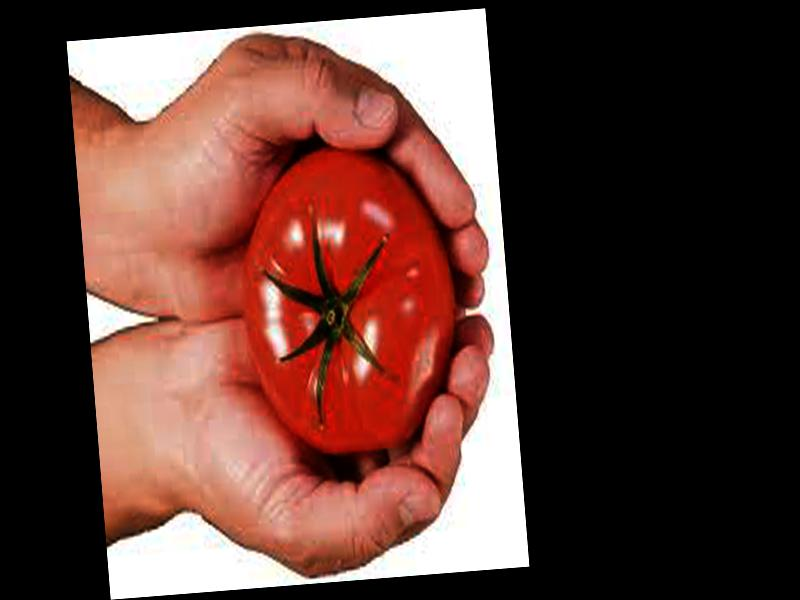Tomato: (234, 137, 464, 463)
